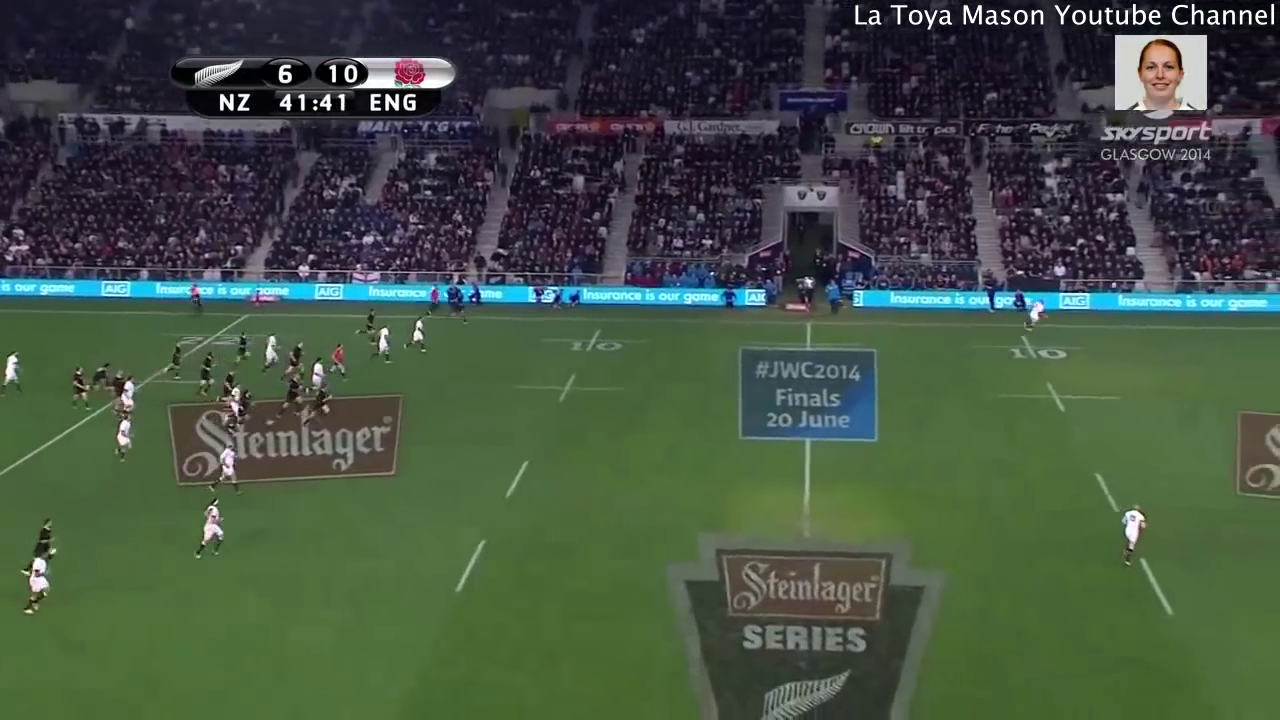10_metre: (505, 363, 630, 414), (989, 378, 1132, 419), (964, 332, 1098, 368), (534, 326, 661, 359)
player: (14, 512, 69, 584), (19, 546, 61, 628), (1114, 498, 1156, 574), (190, 493, 227, 566), (206, 443, 248, 502), (300, 381, 341, 430), (273, 370, 310, 424), (323, 339, 359, 391), (363, 317, 397, 372), (399, 310, 435, 360), (225, 325, 261, 374), (62, 362, 94, 416), (1, 342, 28, 402), (111, 412, 139, 468), (255, 329, 286, 378), (191, 344, 217, 402), (1017, 294, 1049, 341), (300, 352, 332, 397), (281, 334, 311, 381), (85, 358, 111, 409), (161, 339, 191, 382), (213, 361, 238, 412), (117, 370, 139, 421), (233, 386, 257, 429), (352, 306, 377, 343), (106, 365, 124, 413), (227, 378, 241, 428)
